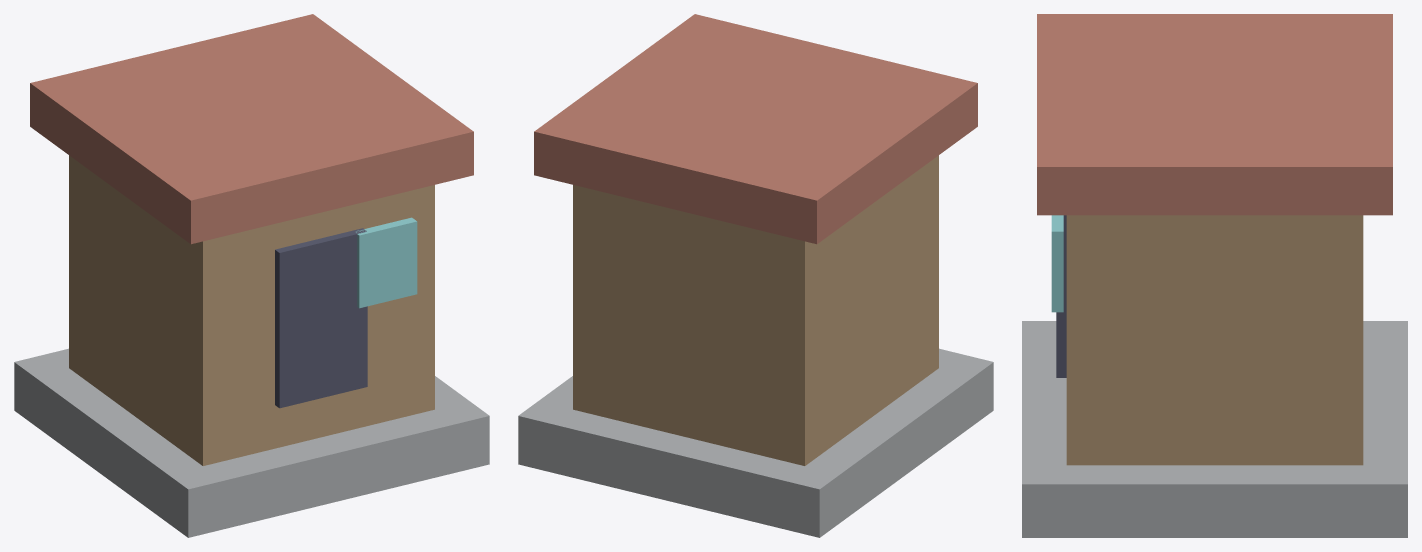
The model's file is casa_modular.glb.
3 renders of one model, left to right at view 1: azimuth 30°, elevation 25°; view 2: azimuth 150°, elevation 25°; view 3: azimuth 270°, elevation 25°, orthographic. The views are drawn at different scales.
Visible parts, largest first — view 1: part_002, part_001, part_000, part_003, part_004; view 2: part_001, part_002, part_000; view 3: part_001, part_002, part_000, part_004, part_003.
Part boxes in pixels (box(x1,y1,x2,y2)): part_002: box(30, 14, 473, 244); part_001: box(69, 155, 434, 465); part_000: box(14, 348, 489, 537); part_003: box(275, 228, 367, 408); part_004: box(356, 217, 417, 308); part_001: box(573, 155, 938, 465); part_002: box(534, 14, 977, 244); part_000: box(518, 348, 993, 537); part_001: box(1066, 215, 1363, 465); part_002: box(1037, 14, 1392, 215); part_000: box(1022, 321, 1407, 537); part_004: box(1051, 215, 1063, 312); part_003: box(1056, 215, 1066, 377).
Bounding box in the file's own units: 1.3 × 1.36 × 1.3.
